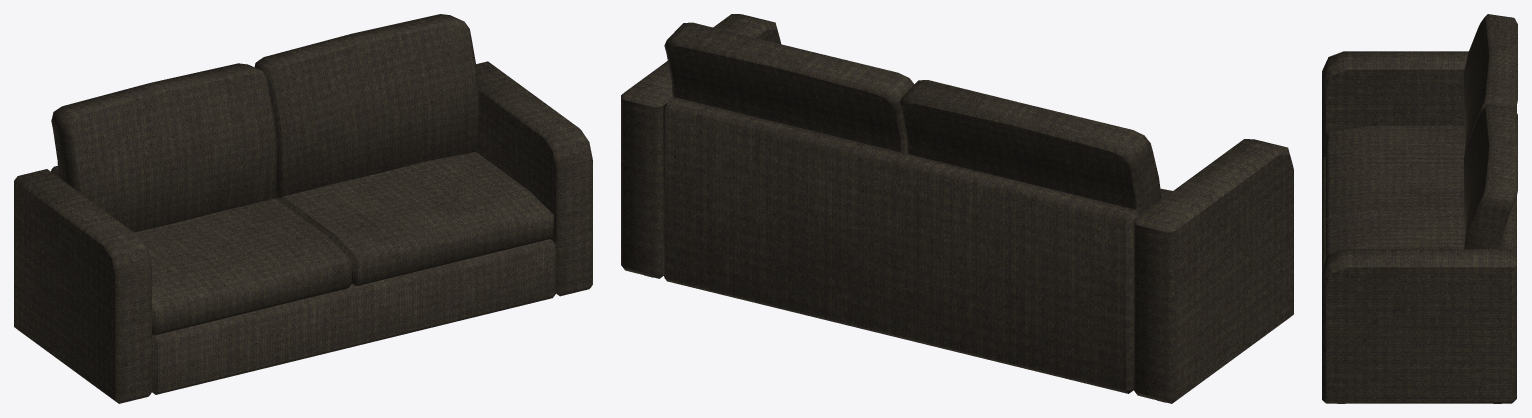
File: sofa_1_3.glb
The picture shows the model from 3 angles, left to right: view 1: azimuth 30°, elevation 25°; view 2: azimuth 150°, elevation 25°; view 3: azimuth 270°, elevation 25°; orthographic projection. The views are drawn at different scales.
Parts seen in each view (by area): view 1: sofa_1_3; view 2: sofa_1_3; view 3: sofa_1_3.
Part boxes in pixels (bbox=[...]): sofa_1_3: bbox=[14, 14, 592, 403]; sofa_1_3: bbox=[621, 14, 1293, 403]; sofa_1_3: bbox=[1322, 14, 1517, 403].
Size of the model in its own units: 2.6 by 1.16 by 1.
Materials: 2 (2 with a texture image).
